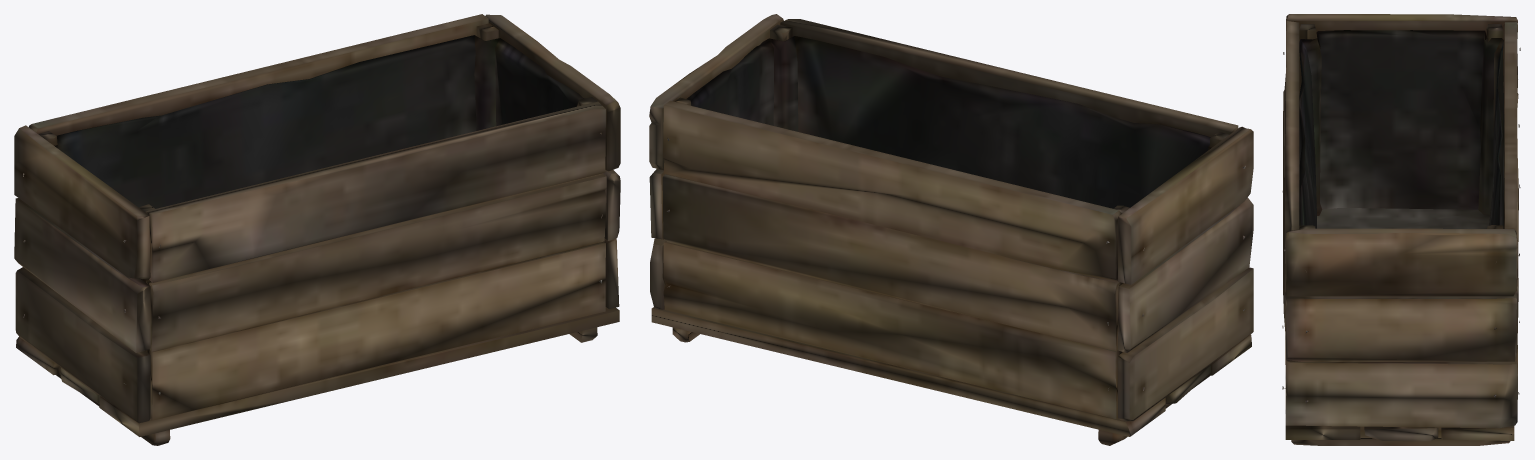
The picture shows the model from 3 angles, left to right: view 1: azimuth 30°, elevation 25°; view 2: azimuth 150°, elevation 25°; view 3: azimuth 270°, elevation 25°; orthographic projection. The views are drawn at different scales.
Parts seen in each view (by area): view 1: planter_box_01; view 2: planter_box_01; view 3: planter_box_01.
Part boxes in pixels (x1,y1,x2,y2): planter_box_01: [14, 14, 620, 445]; planter_box_01: [649, 14, 1253, 445]; planter_box_01: [1282, 14, 1520, 445].
Bounding box in the file's own units: 0.9126 × 0.4249 × 0.4135.
Materials: 1 (1 with a texture image).
